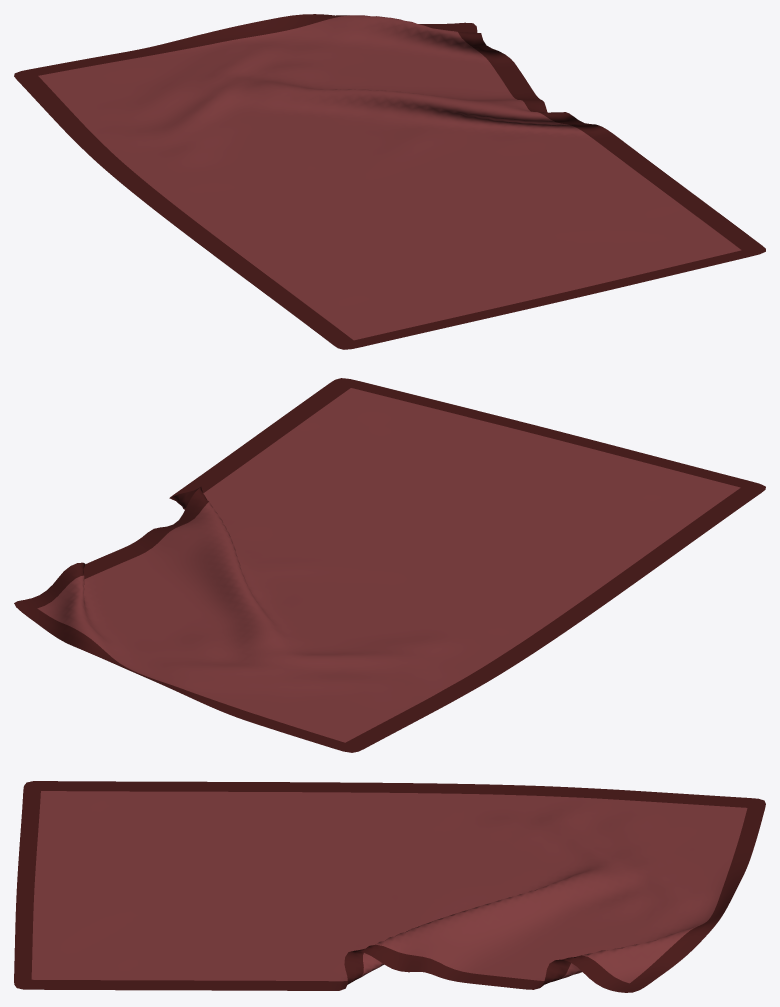
The model's file is red_carpet.fbx.
The picture shows the model from 3 angles, top to bottom: view 1: azimuth 30°, elevation 25°; view 2: azimuth 150°, elevation 25°; view 3: azimuth 270°, elevation 25°; orthographic projection. The views are drawn at different scales.
Parts seen in each view (by area): view 1: Plane.001; view 2: Plane.001; view 3: Plane.001.
Part boxes in pixels (x1=…): Plane.001: x1=14, y1=14, x2=765, y2=349; Plane.001: x1=14, y1=378, x2=765, y2=752; Plane.001: x1=14, y1=781, x2=765, y2=992.
Size of the model in its own units: 163 by 8.47 by 244.
